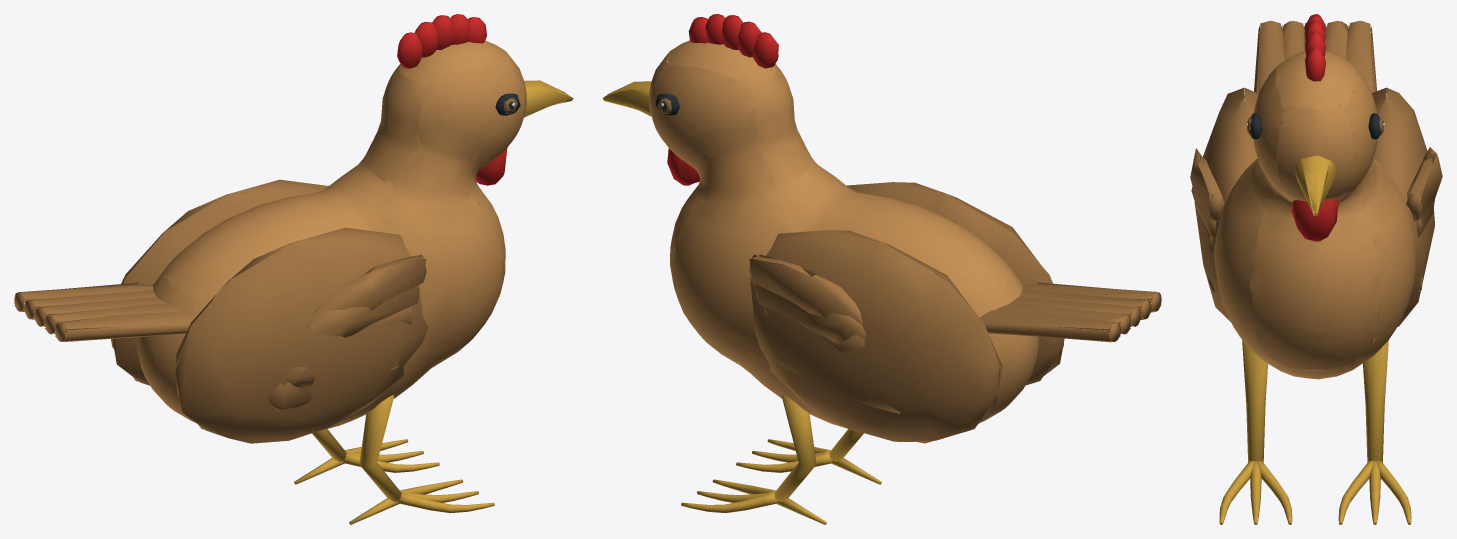
Rendered from hen.glb.
The picture shows the model from 3 angles, left to right: view 1: azimuth 30°, elevation 25°; view 2: azimuth 150°, elevation 25°; view 3: azimuth 270°, elevation 25°; orthographic projection. The views are drawn at different scales.
Visible parts, largest first — view 1: Articulated bird leg; view 2: Articulated bird leg; view 3: Articulated bird leg.
Boxes of the visible parts, x1=… form: Articulated bird leg: x1=14, y1=14, x2=573, y2=524; Articulated bird leg: x1=602, y1=14, x2=1161, y2=524; Articulated bird leg: x1=1190, y1=14, x2=1442, y2=524.
Size of the model in its own units: 0.5089 by 0.4205 by 0.1924.
7 materials, 7 textured.
